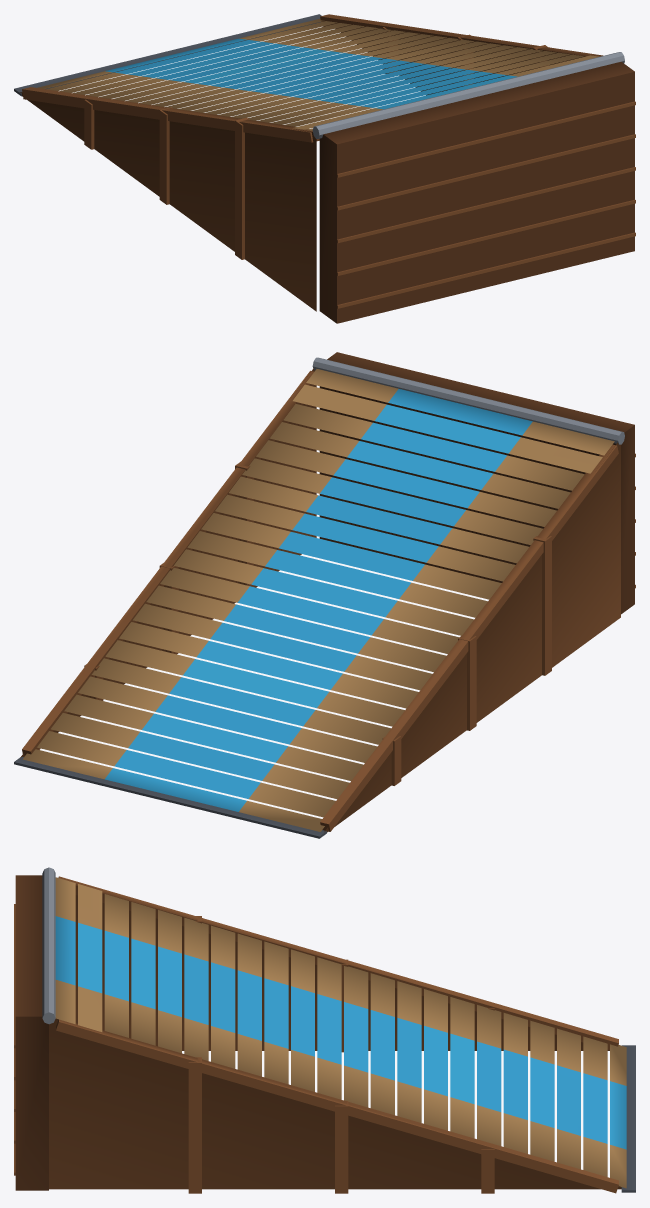
Rendered from m_kicker_blue.glb.
3 renders of one model, top to bottom at view 1: azimuth 30°, elevation 25°; view 2: azimuth 150°, elevation 25°; view 3: azimuth 270°, elevation 25°, orthographic. The views are drawn at different scales.
Parts seen in each view (by area): view 1: m_kicker_blue; view 2: m_kicker_blue; view 3: m_kicker_blue.
Boxes of the visible parts, <box> form: m_kicker_blue: <box>14,14,635,323</box>; m_kicker_blue: <box>14,352,635,838</box>; m_kicker_blue: <box>14,867,635,1193</box>.
Size of the model in its own units: 4.16 by 2.39 by 7.44.
